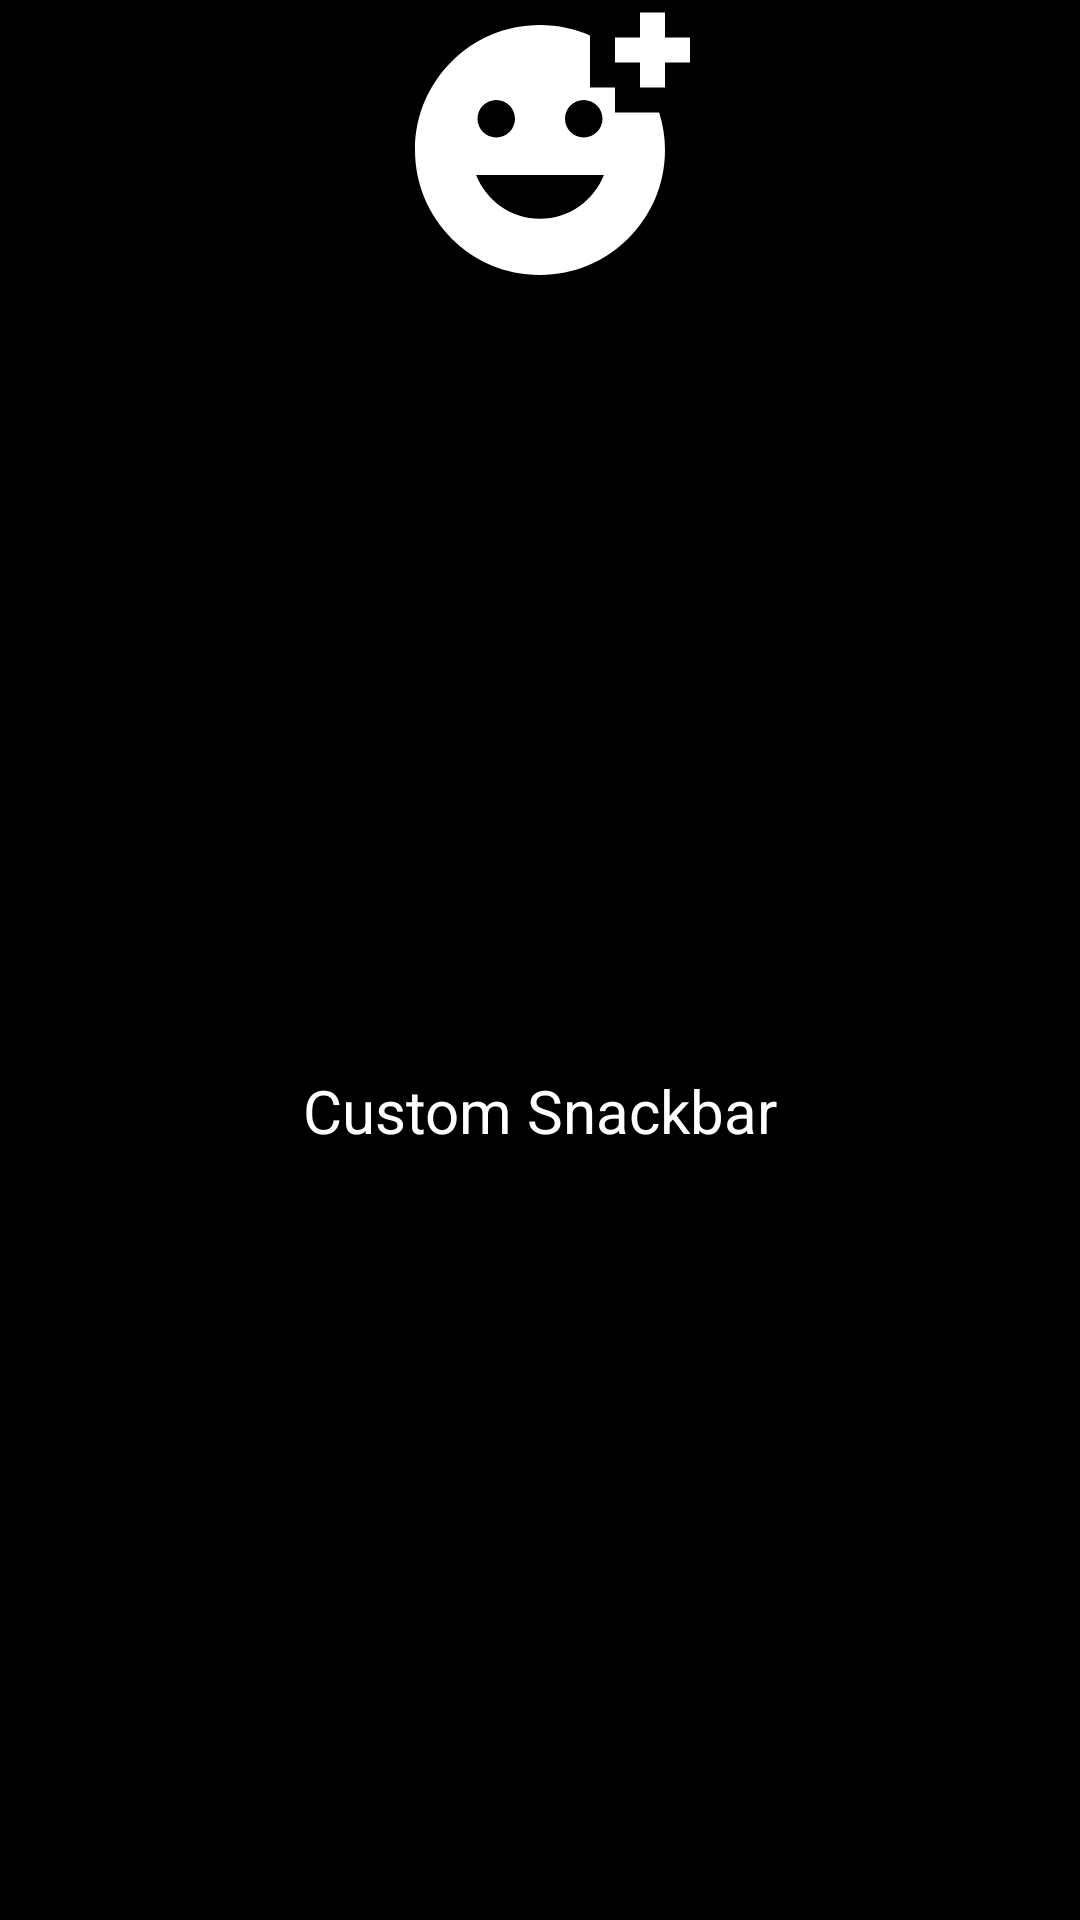

Where to tap for icons on this 1080 × 1920 app screen, as [x,y]:
add reaction: [552,143]
